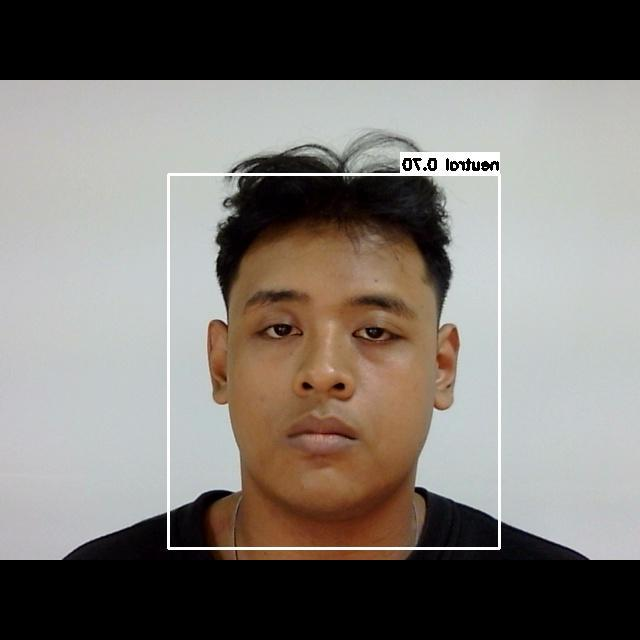Natural: (226, 246, 436, 511)
